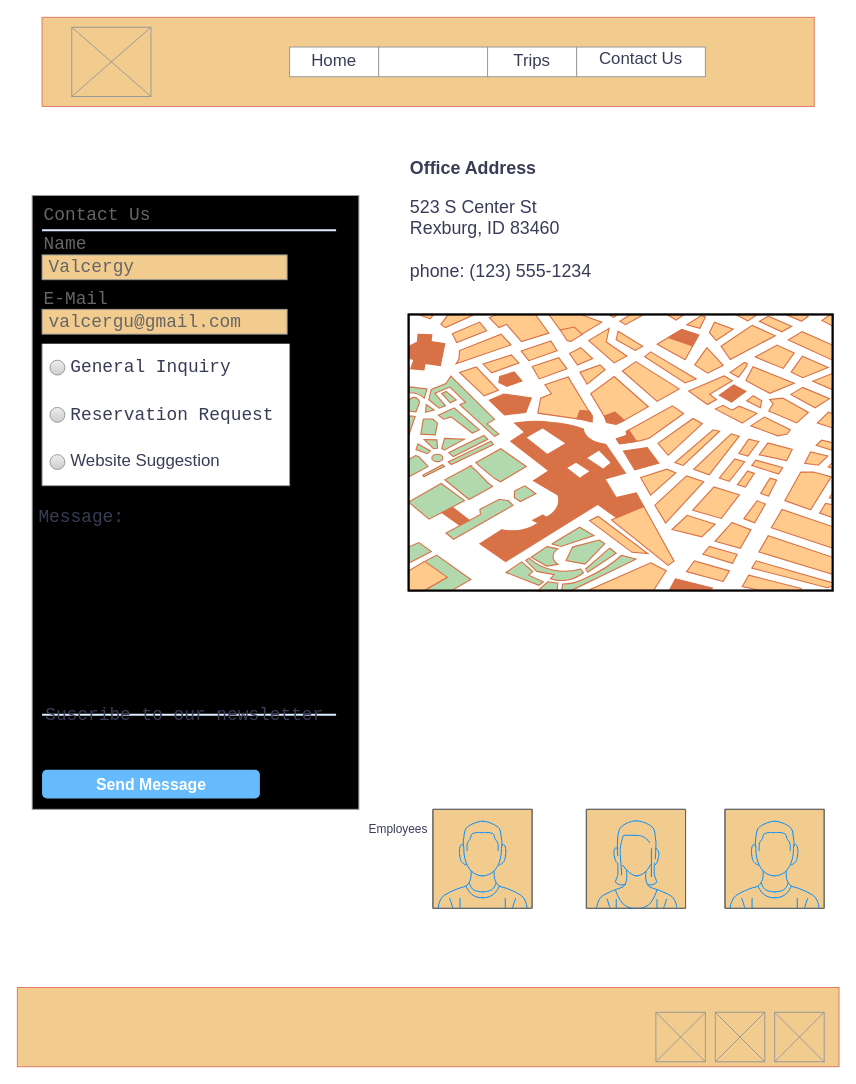
Some shapes in this 856 by 1084 pixel diagram are drawn without their labels. The box of each missing label's shape, as (x1, y1, x2, y2) in pixels:
Abous Us: (378, 46, 488, 77)
Footer content including social media iconsLinks: (16, 987, 839, 1067)
